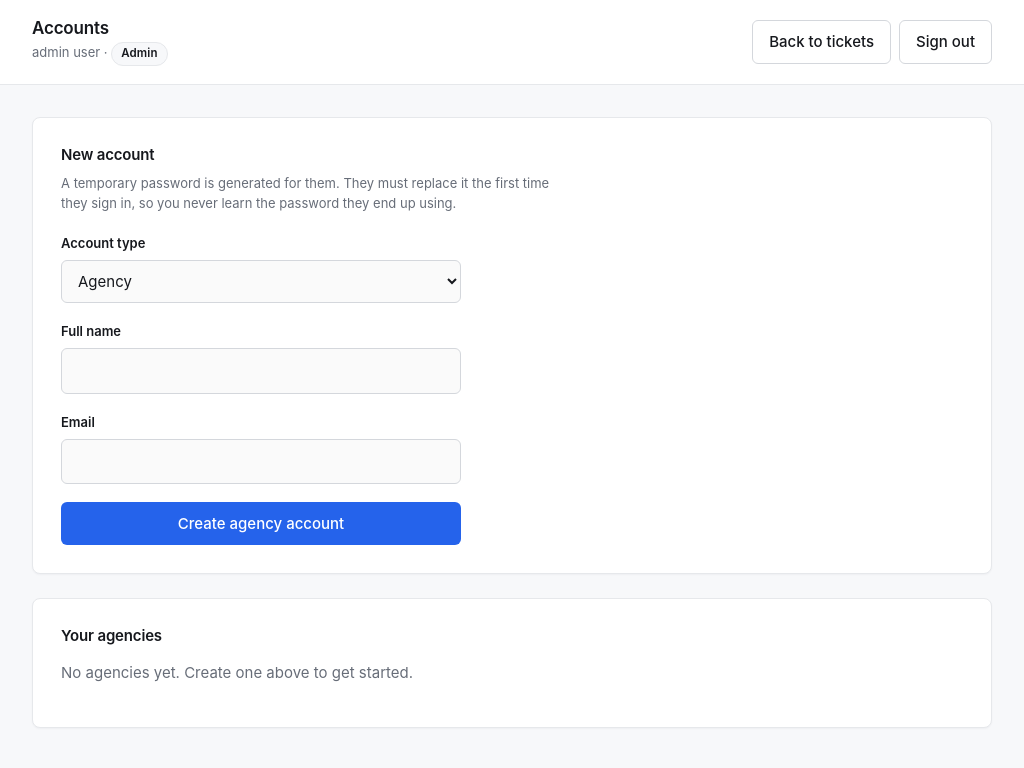
Scenario: account creation › shows the generated password once, for handing over
The image size is (1024, 768).
Expected: the heading "New account" is shown, [61,145,154,164]
Expected: the text "No agencies yet. Create one above to get started." is shown, [61,663,413,682]
In the field labelled "Full name": (261, 371) [61,348,461,394], type "New Agency"
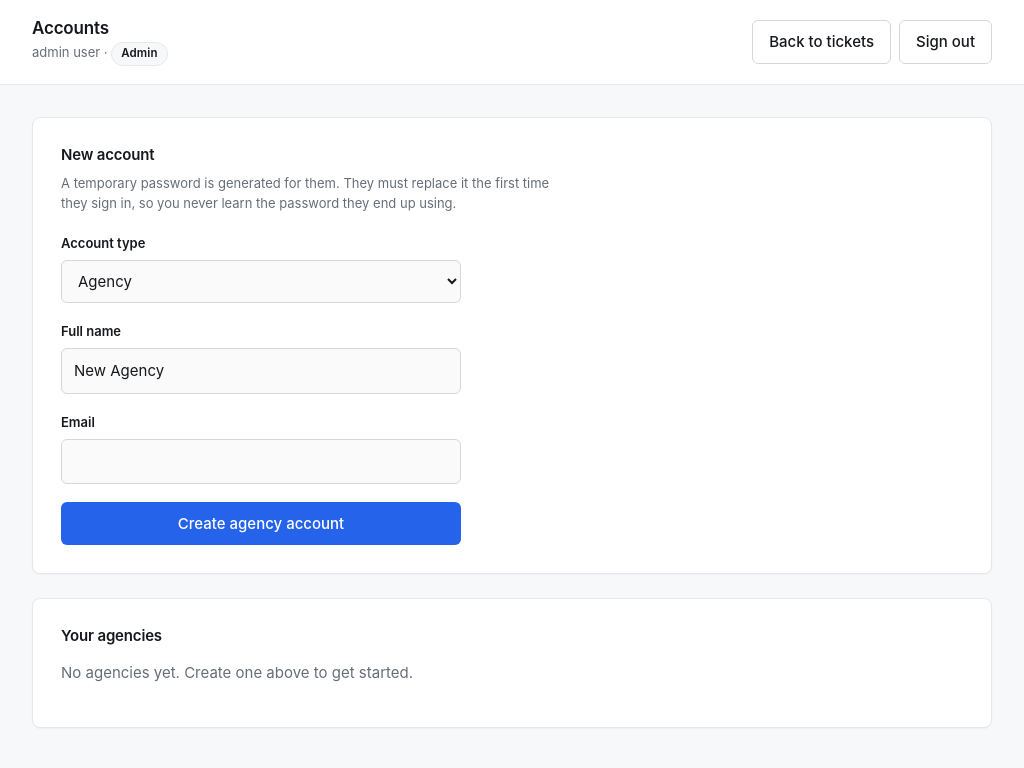
In the field labelled "Email": (261, 461) [61,439,461,484], type "new@agency.com"
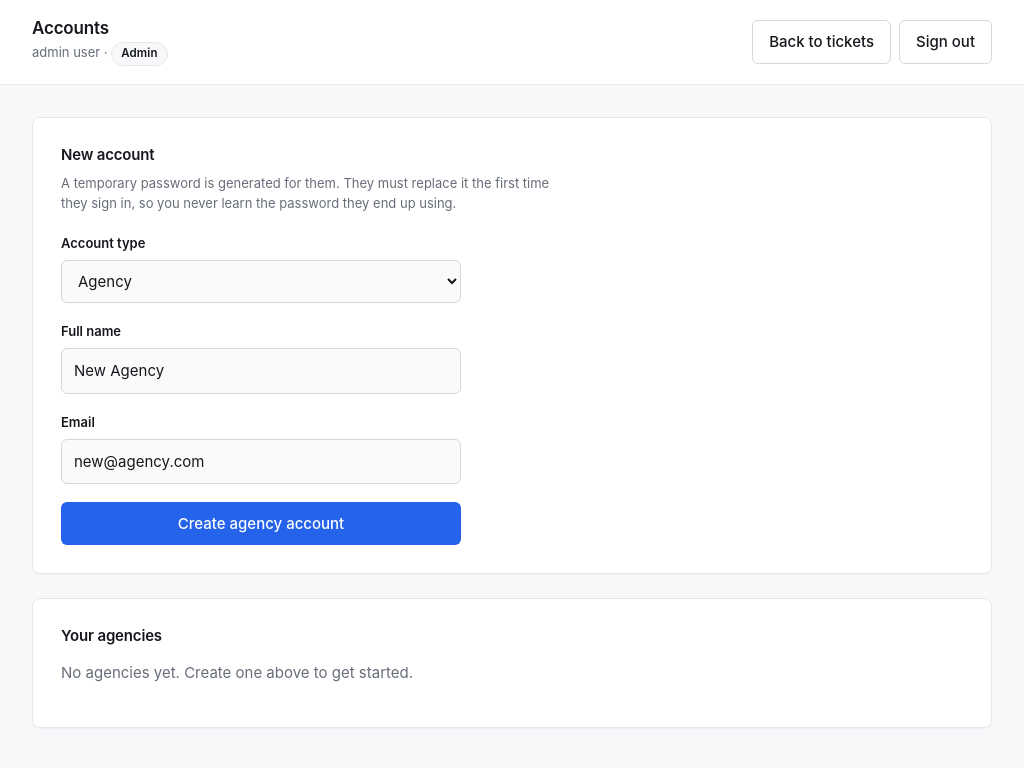
Click the button "Create agency account": (261, 524) [61,502,461,545]
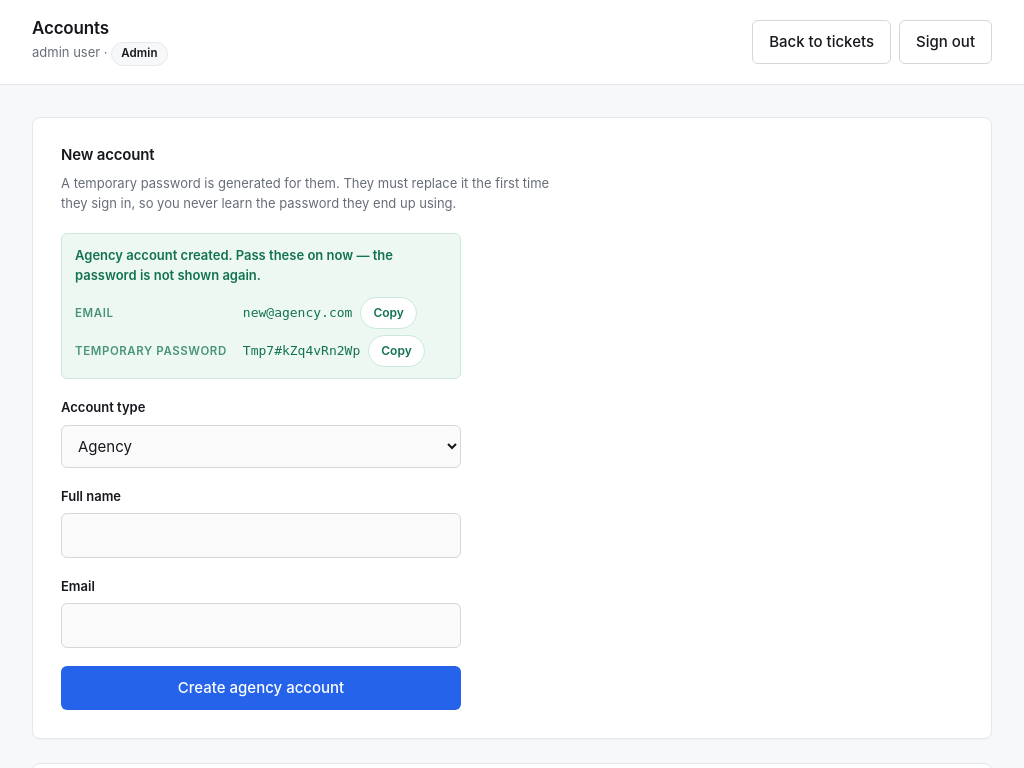
Expected: the message shows "Tmp7#kZq4vRn2Wp", [243,343,360,358]
Expected: the message shows "not shown again", [75,247,393,283]
